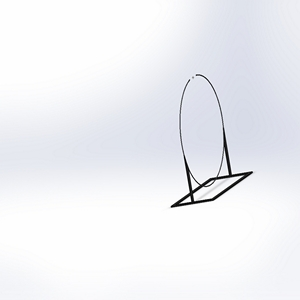circle: (167, 72, 252, 207)
